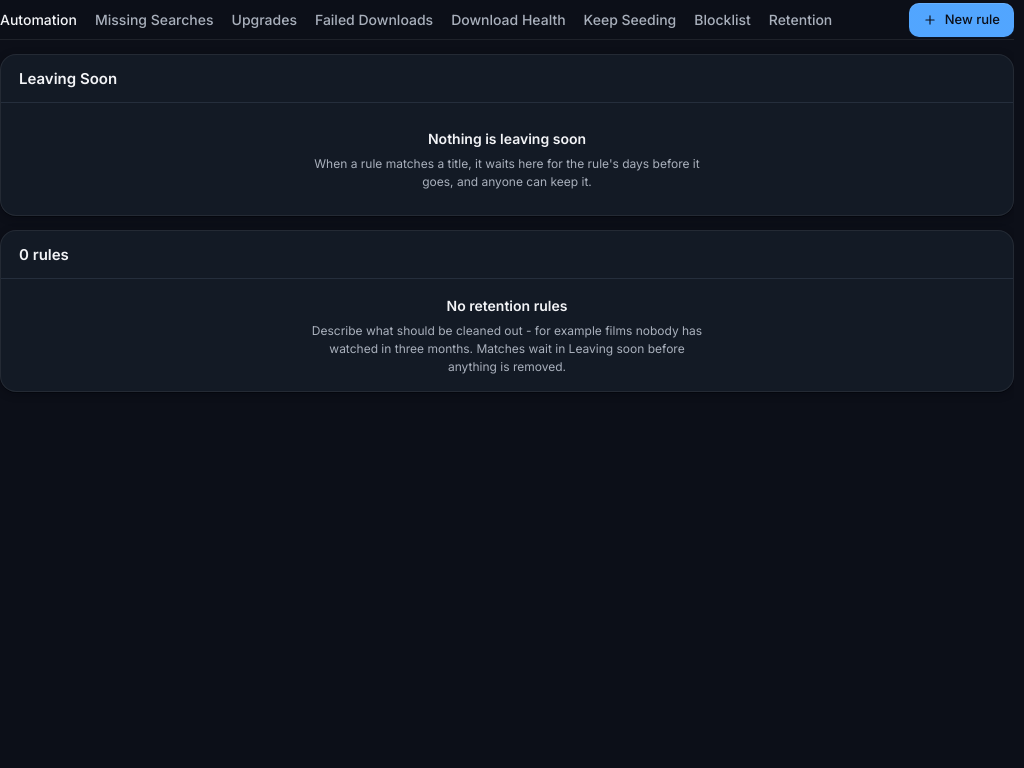
Scenario: New rule › shows the server's validation messages in the footer, joined, and keeps the drawer open
This screenshot has width=1024, height=768.
What coordinates should you click on to do the following:
click the button "New rule"
I would click on:
 (961, 20)
Its box is [909,2,1014,36].
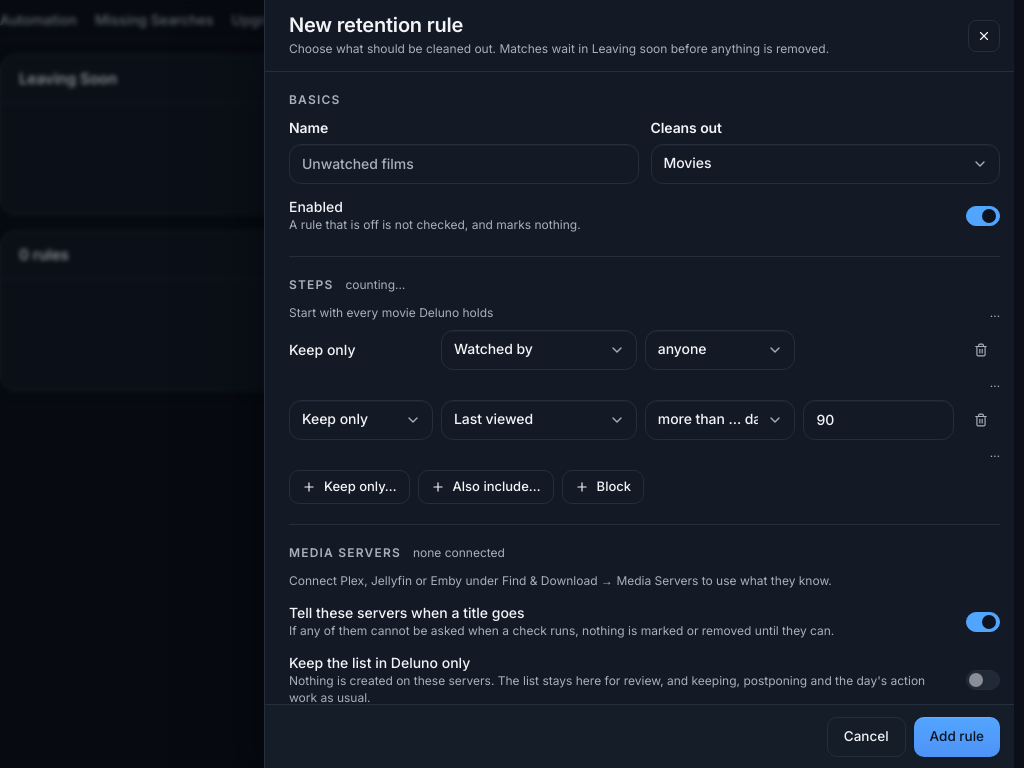
What coordinates should you click on to do the following:
click the button "Add rule"
I would click on:
 (957, 736)
Its box is [914,716,1000,756].
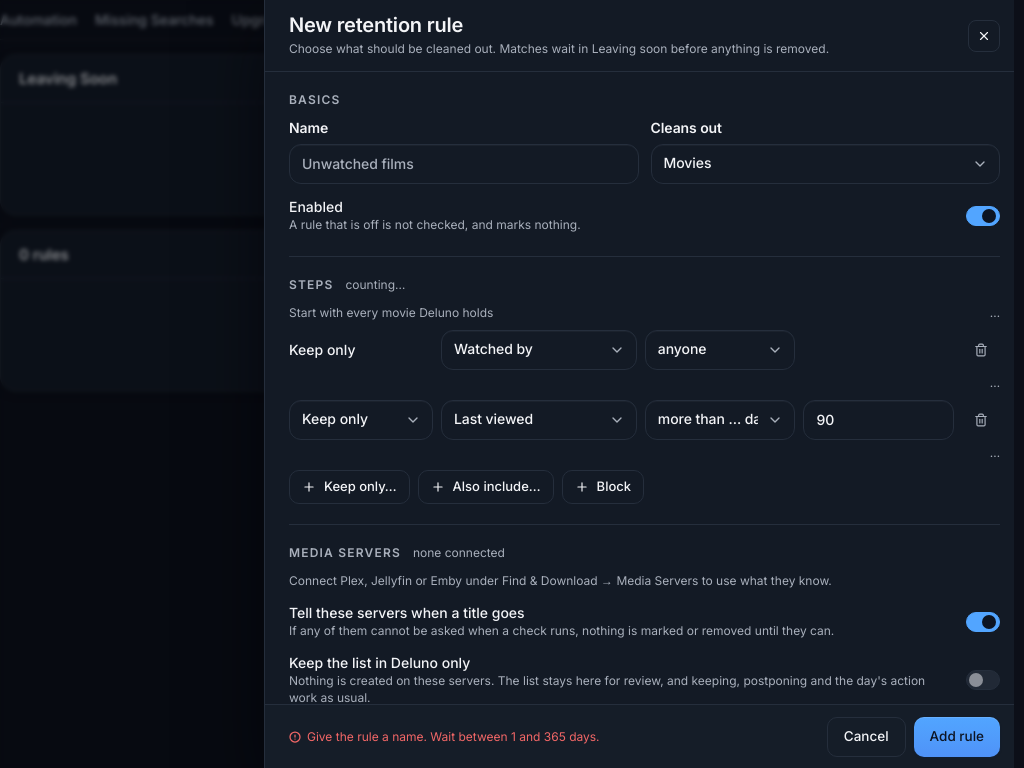
Expected: the dialog is shown
Expected: the text "Give the rule a name. Wait between 1 and 365 days." is shown, [307,728,600,746]
